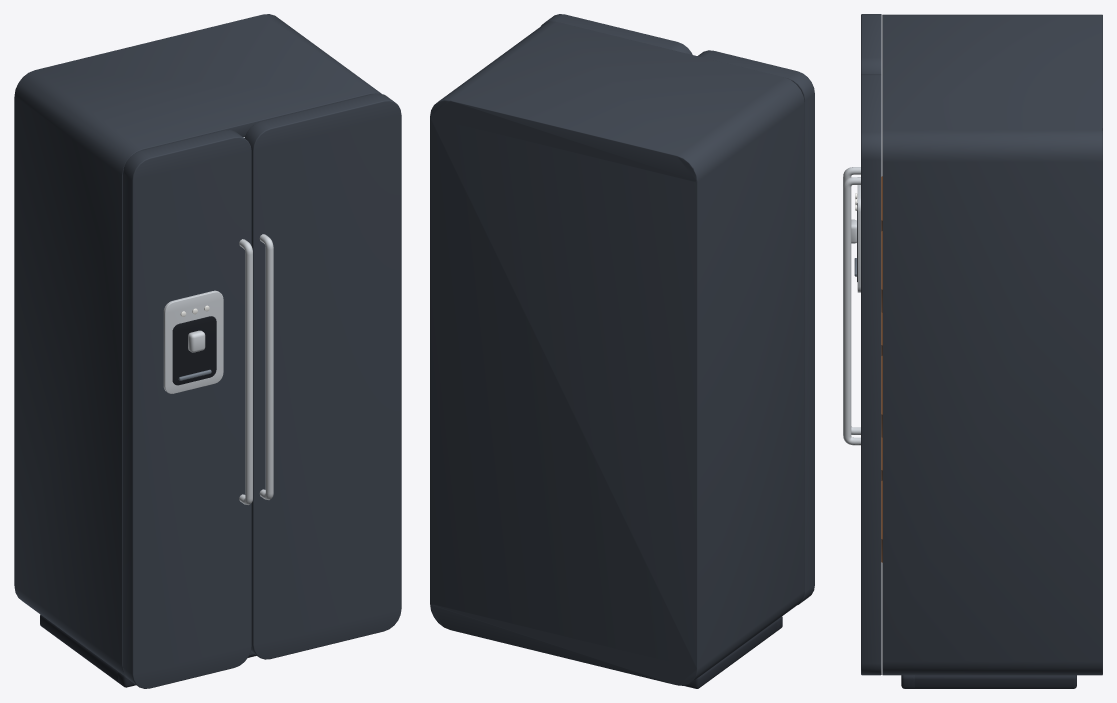
The model's file is geladeira_duplex_grafite.glb.
3 renders of one model, left to right at view 1: azimuth 30°, elevation 25°; view 2: azimuth 150°, elevation 25°; view 3: azimuth 270°, elevation 25°, orthographic. The views are drawn at different scales.
Visible parts, largest first — view 1: geladeira_duplex_grafite, porta_geladeira, porta_freezer; view 2: geladeira_duplex_grafite, porta_freezer, porta_geladeira; view 3: geladeira_duplex_grafite, porta_geladeira, porta_freezer.
Boxes of the visible parts, x1,y1,x2,y2 form: geladeira_duplex_grafite: (14,14,381,687); porta_geladeira: (244,93,401,659); porta_freezer: (123,130,252,688); geladeira_duplex_grafite: (430,21,804,688); porta_freezer: (697,50,814,604); porta_geladeira: (541,14,692,54); geladeira_duplex_grafite: (882,14,1102,688); porta_geladeira: (843,74,882,675); porta_freezer: (843,14,882,480).
Bounding box in the file's own units: 0.92 × 1.78 × 0.754.
2 materials, 1 textured.
